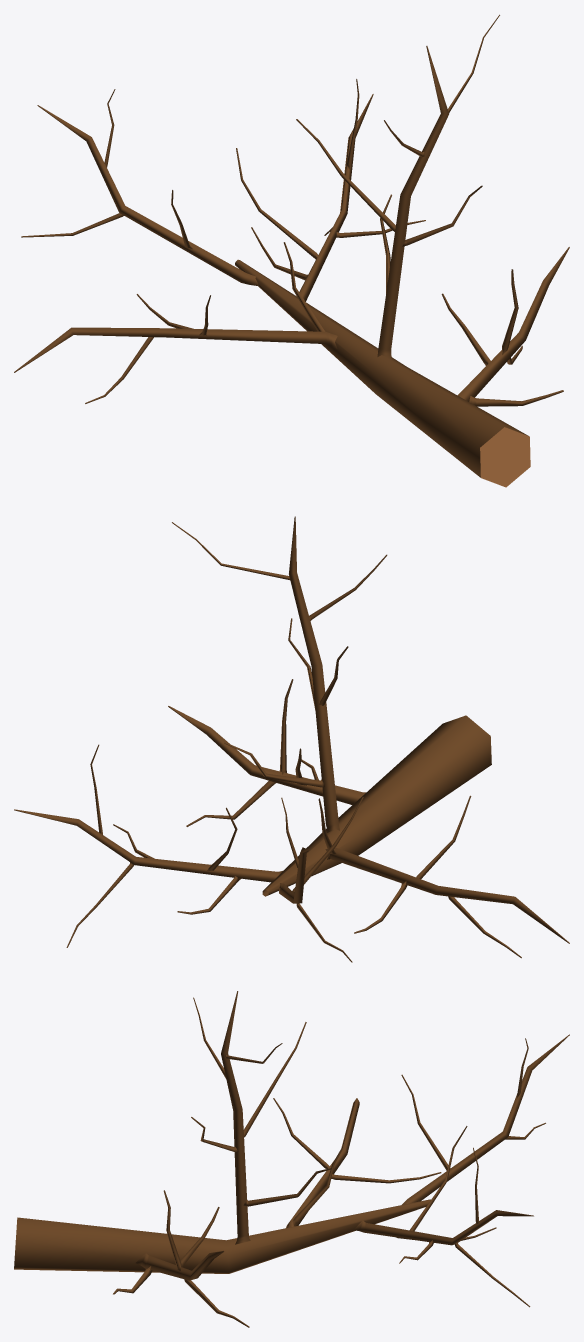
File: Branch_1.fbx
The picture shows the model from 3 angles, top to bottom: view 1: azimuth 30°, elevation 25°; view 2: azimuth 150°, elevation 25°; view 3: azimuth 270°, elevation 25°; orthographic projection. The views are drawn at different scales.
Visible parts, largest first — view 1: Branch_1; view 2: Branch_1; view 3: Branch_1.
Boxes of the visible parts, <box> form: Branch_1: <box>14,14,569,487</box>; Branch_1: <box>14,516,569,962</box>; Branch_1: <box>14,991,569,1327</box>.
Size of the model in its own units: 228 by 154 by 259.
1 material, 1 textured.
